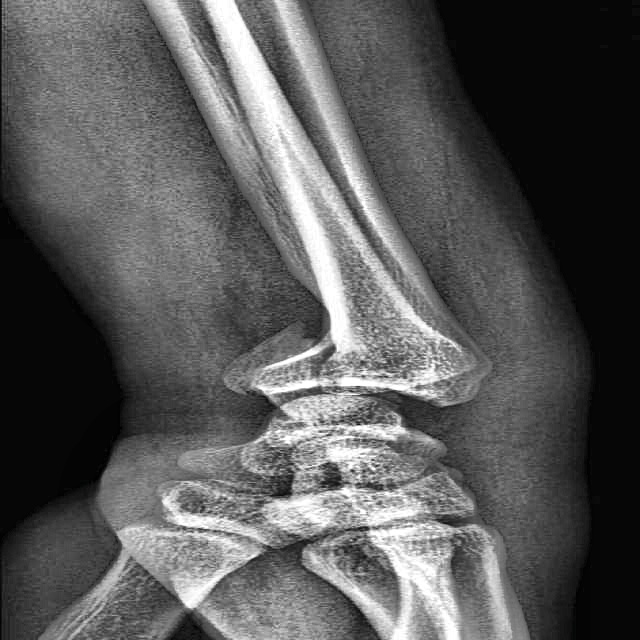Linear: (266, 327, 379, 397)
